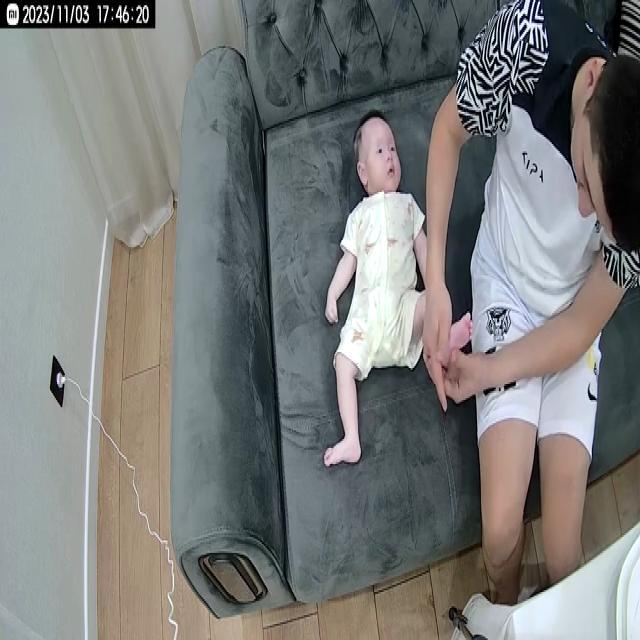baby: (324, 108, 474, 468)
